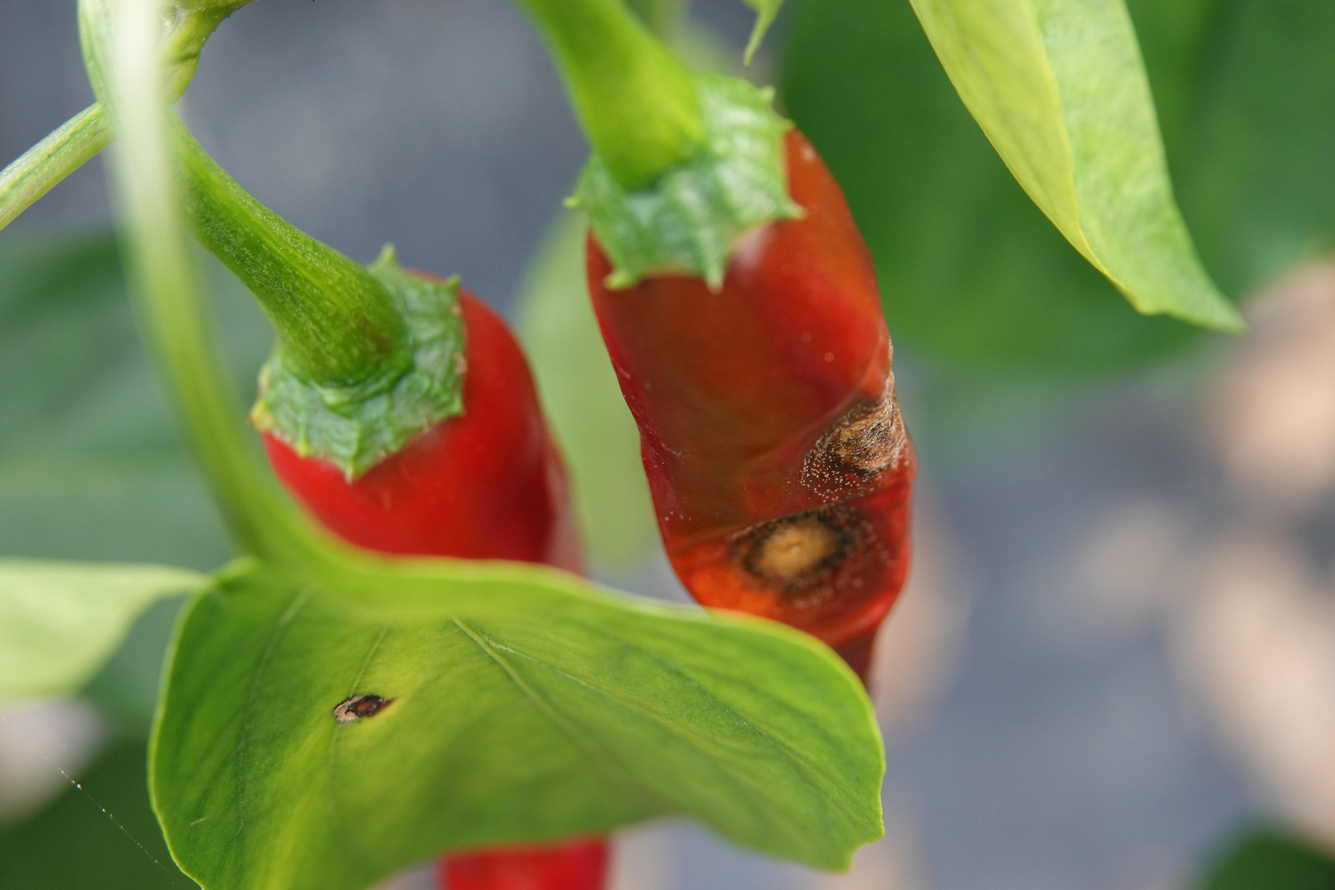Busuk Buah Antraknosa: (518, 2, 921, 691)
